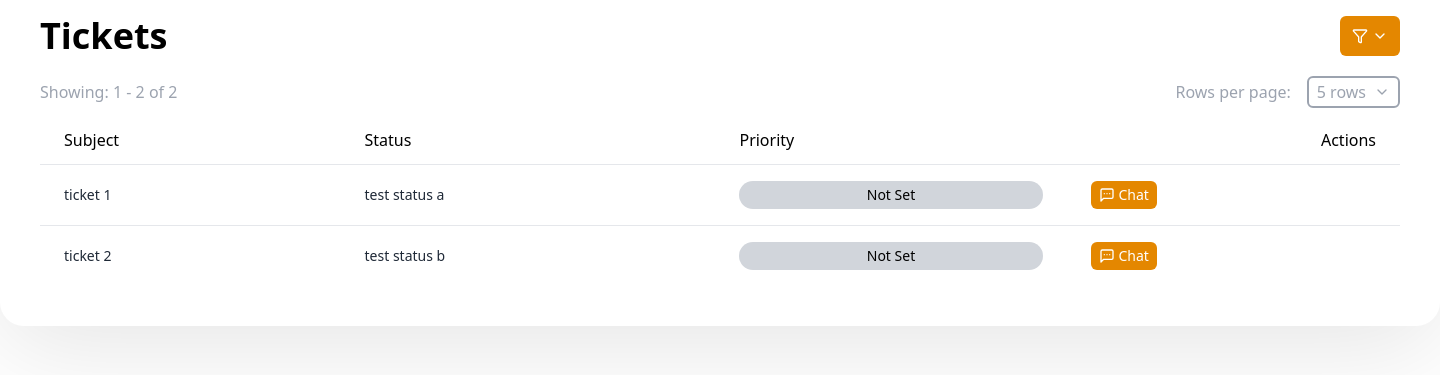
it: TicketsCard - rendering › TicketsCard - Sorting › Tickets are correctly sorted by status when status is clicked
Check: the text "ticket 1" is shown, box [40,164,340,226]
Click the button "Status": (388, 140) [364,128,691,152]
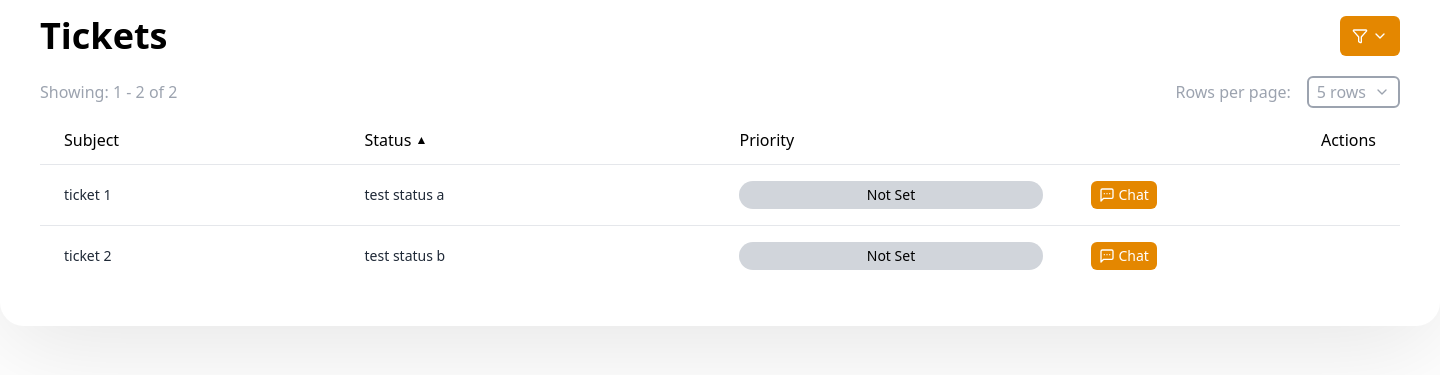
Check: the text "test status a" is shown, box [364,185,444,204]
Check: the button "Status ▲" is shown
Click the button "Status ▲": (388, 140) [364,128,691,152]
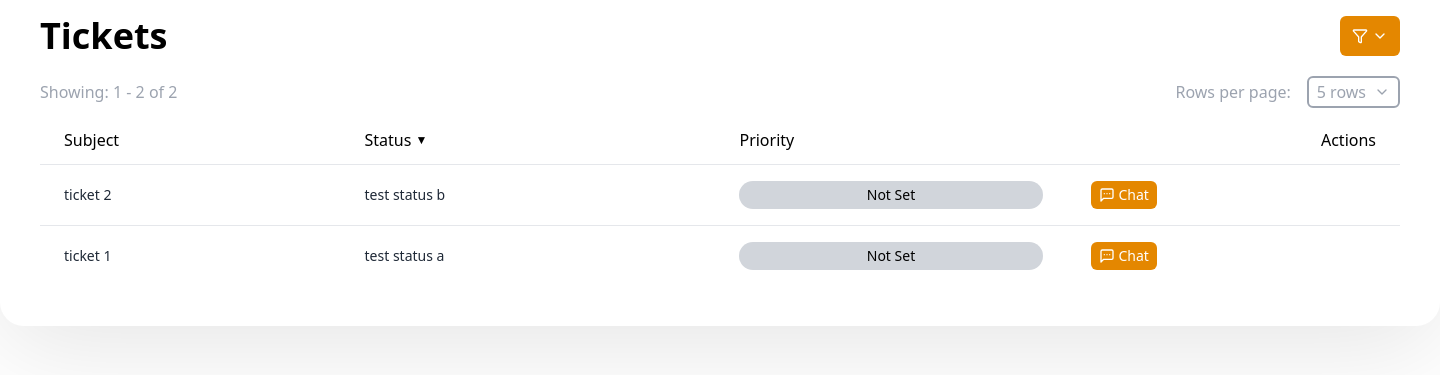
Check: the text "test status b" is shown, box [364,185,445,204]
Check: the button "Status ▼" is shown, box [364,128,691,152]
